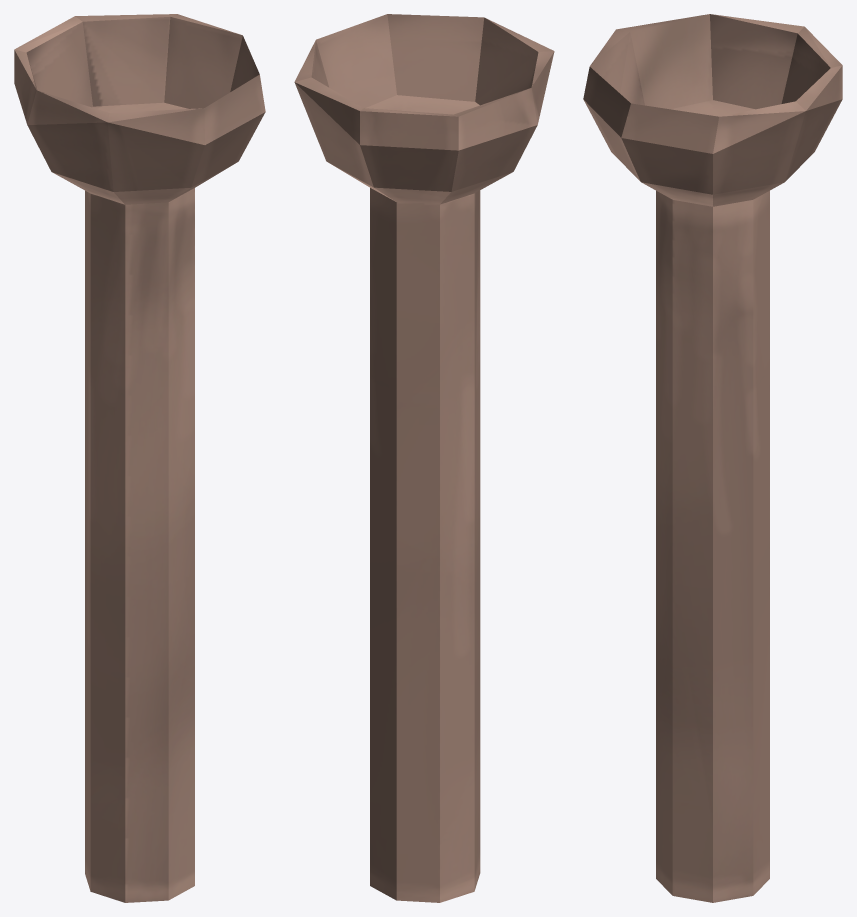
File: Torch_01.fbx
3 renders of one model, left to right at view 1: azimuth 30°, elevation 25°; view 2: azimuth 150°, elevation 25°; view 3: azimuth 270°, elevation 25°, orthographic.
Parts seen in each view (by area): view 1: Torch_01; view 2: Torch_01; view 3: Torch_01.
Boxes of the visible parts, x1,y1,x2,y2 form: Torch_01: (14,14,265,902); Torch_01: (294,14,554,902); Torch_01: (583,14,842,902).
Bounding box in the file's own units: 10.31 × 35.68 × 10.31.
Materials: 1 (1 with a texture image).
